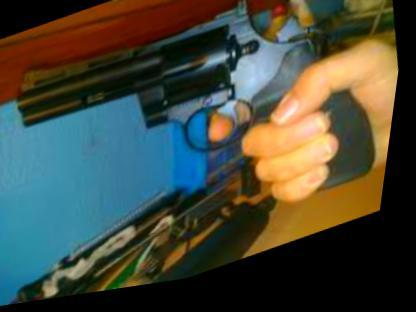pistol: (0, 0, 411, 307)
